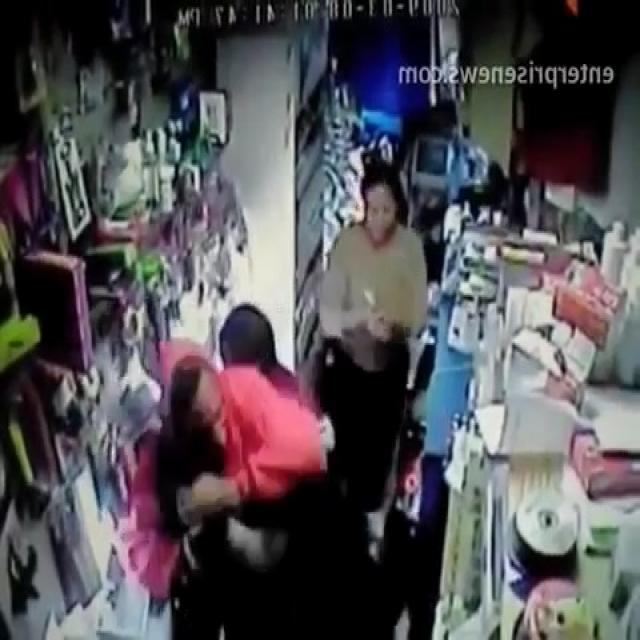fight: (128, 302, 332, 640)
